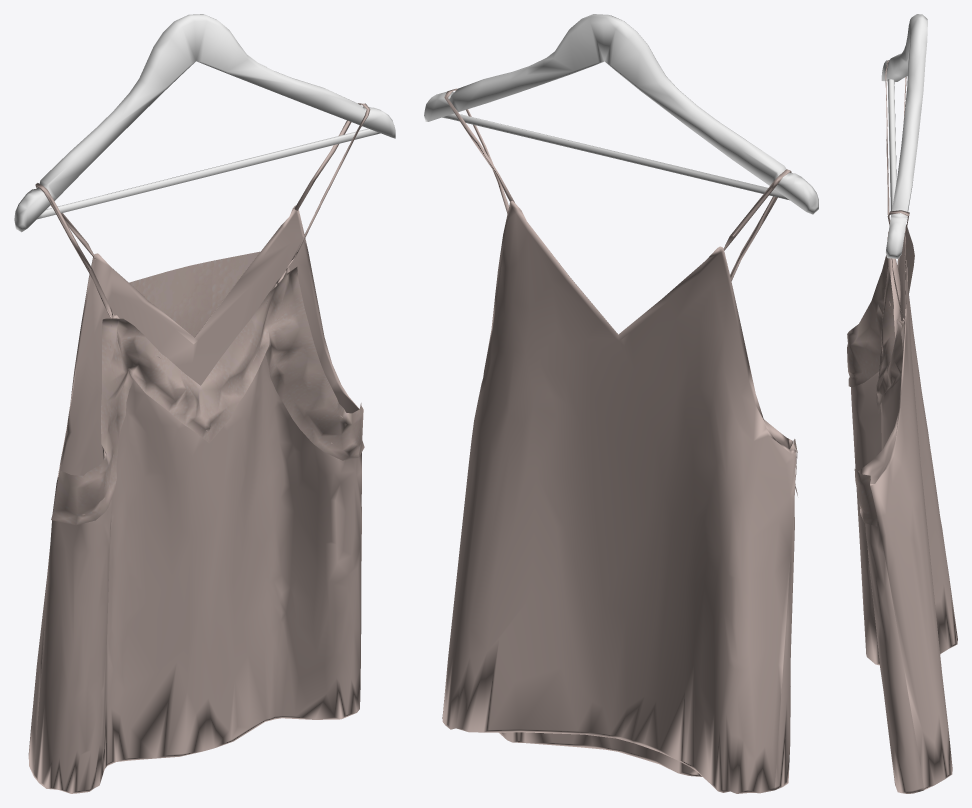
Rendered from hvtop_maika.glb.
3 renders of one model, left to right at view 1: azimuth 30°, elevation 25°; view 2: azimuth 150°, elevation 25°; view 3: azimuth 270°, elevation 25°, orthographic. The views are drawn at different scales.
Parts seen in each view (by area): view 1: BP_maika; view 2: BP_maika; view 3: BP_maika.
Part boxes in pixels (x1,y1,x2,y2): BP_maika: [14, 14, 395, 793]; BP_maika: [424, 14, 818, 793]; BP_maika: [847, 14, 957, 793].
Size of the model in its own units: 0.4179 by 0.7675 by 0.1097.
4 materials, 2 textured.
